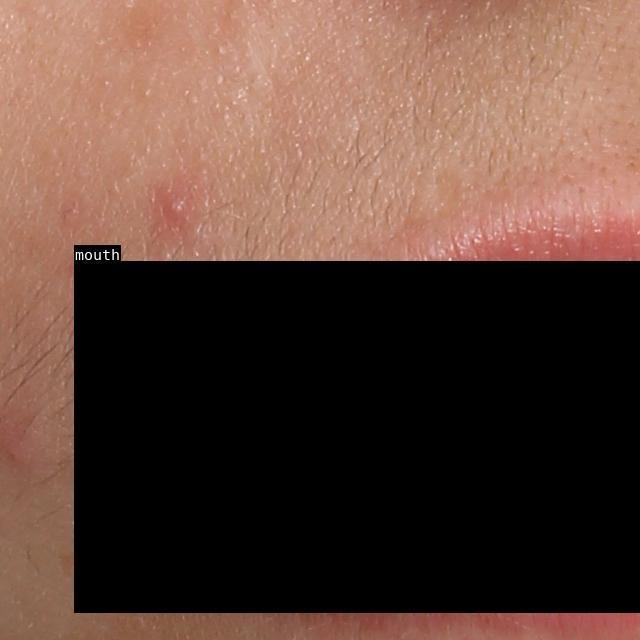papule: (161, 187, 195, 225)
